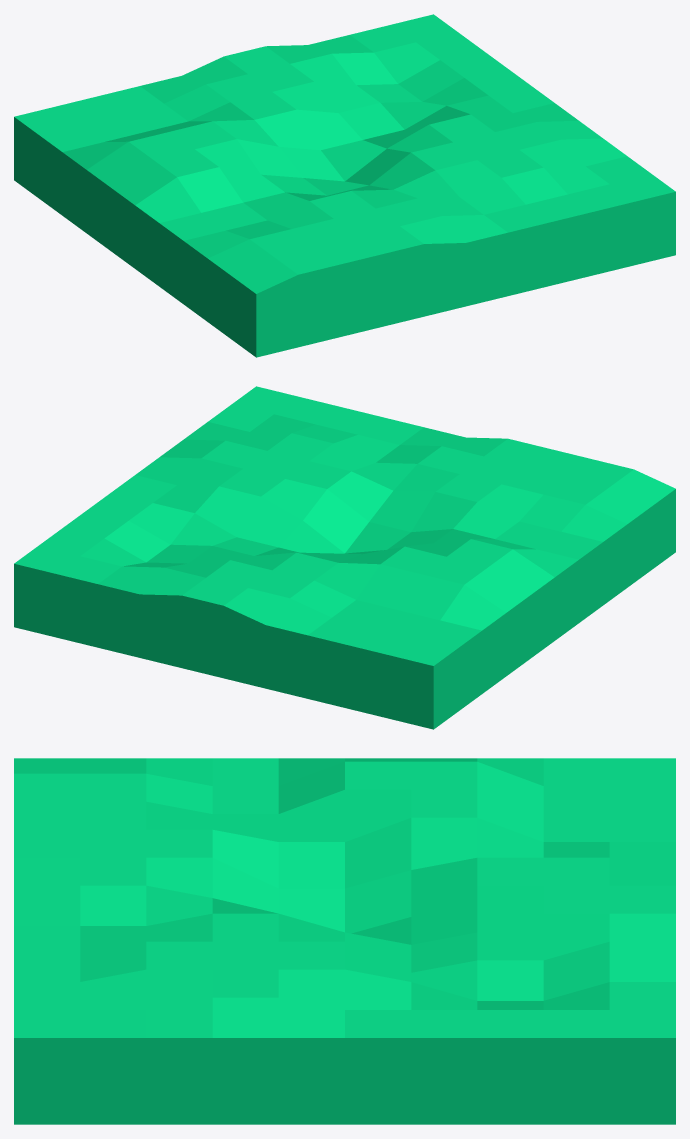
The model's file is planetestblend.fbx.
3 renders of one model, top to bottom at view 1: azimuth 30°, elevation 25°; view 2: azimuth 150°, elevation 25°; view 3: azimuth 270°, elevation 25°, orthographic. The views are drawn at different scales.
Visible parts, largest first — view 1: Cube; view 2: Cube; view 3: Cube.
Boxes of the visible parts, box(x1,y1,x2,y2) form: Cube: box(14, 14, 675, 357); Cube: box(14, 386, 675, 729); Cube: box(14, 758, 675, 1124).
Size of the model in its own units: 2000 by 371 by 2000.
